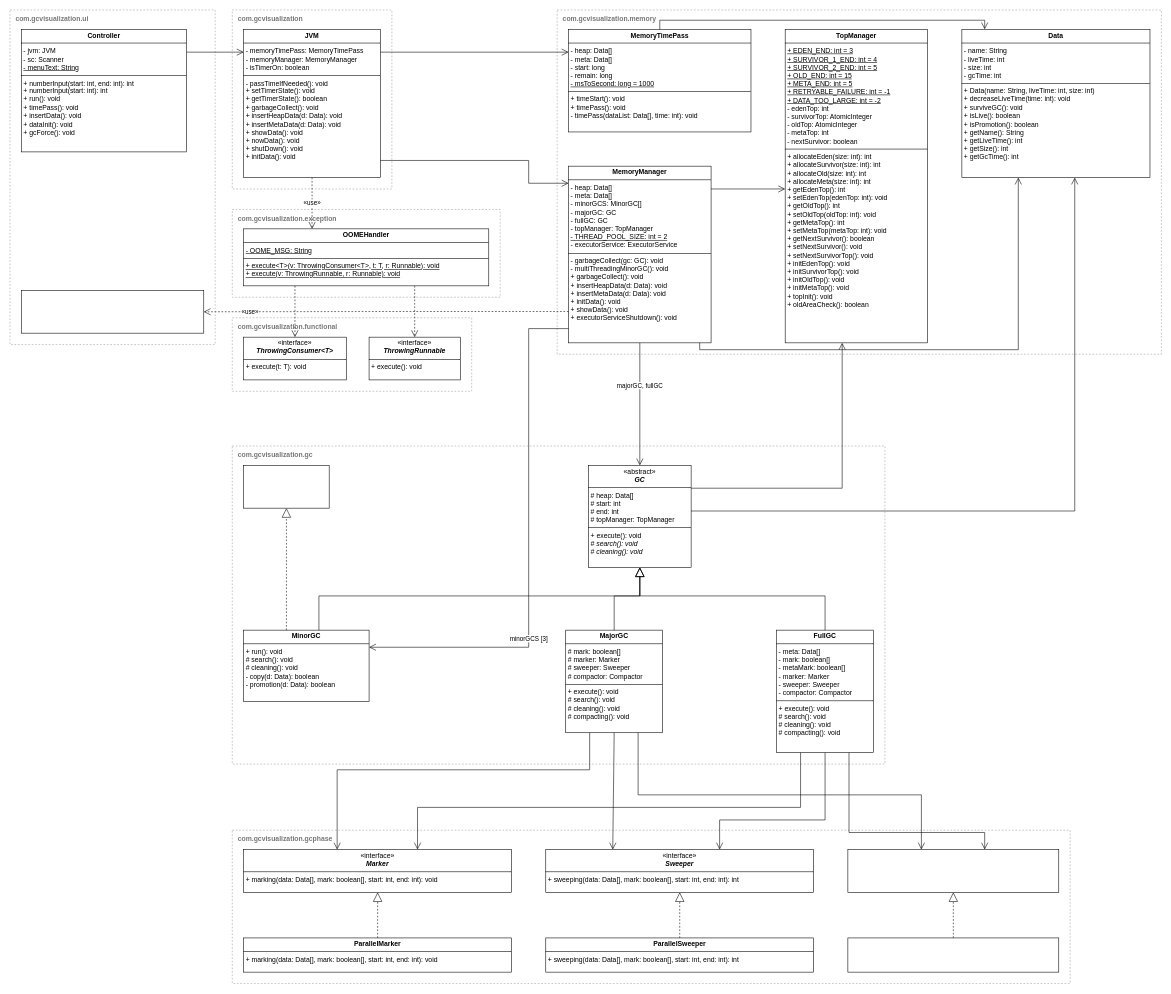
This 1171x994 diagram has some shape labels left out. Each missing label, with the centre of its shape:
DataPrinter - DataPrinter() + printData(data: Data[], name: String): void: the point at 112,311
ParallelCompactor + compacting(data: Data[], start: int, end: int): int: the point at 953,954
«interface» Compactor + compacting(data: Data[], start: int, end: int): int: the point at 953,870
«interface» Runnable + run(): void: the point at 286,486
